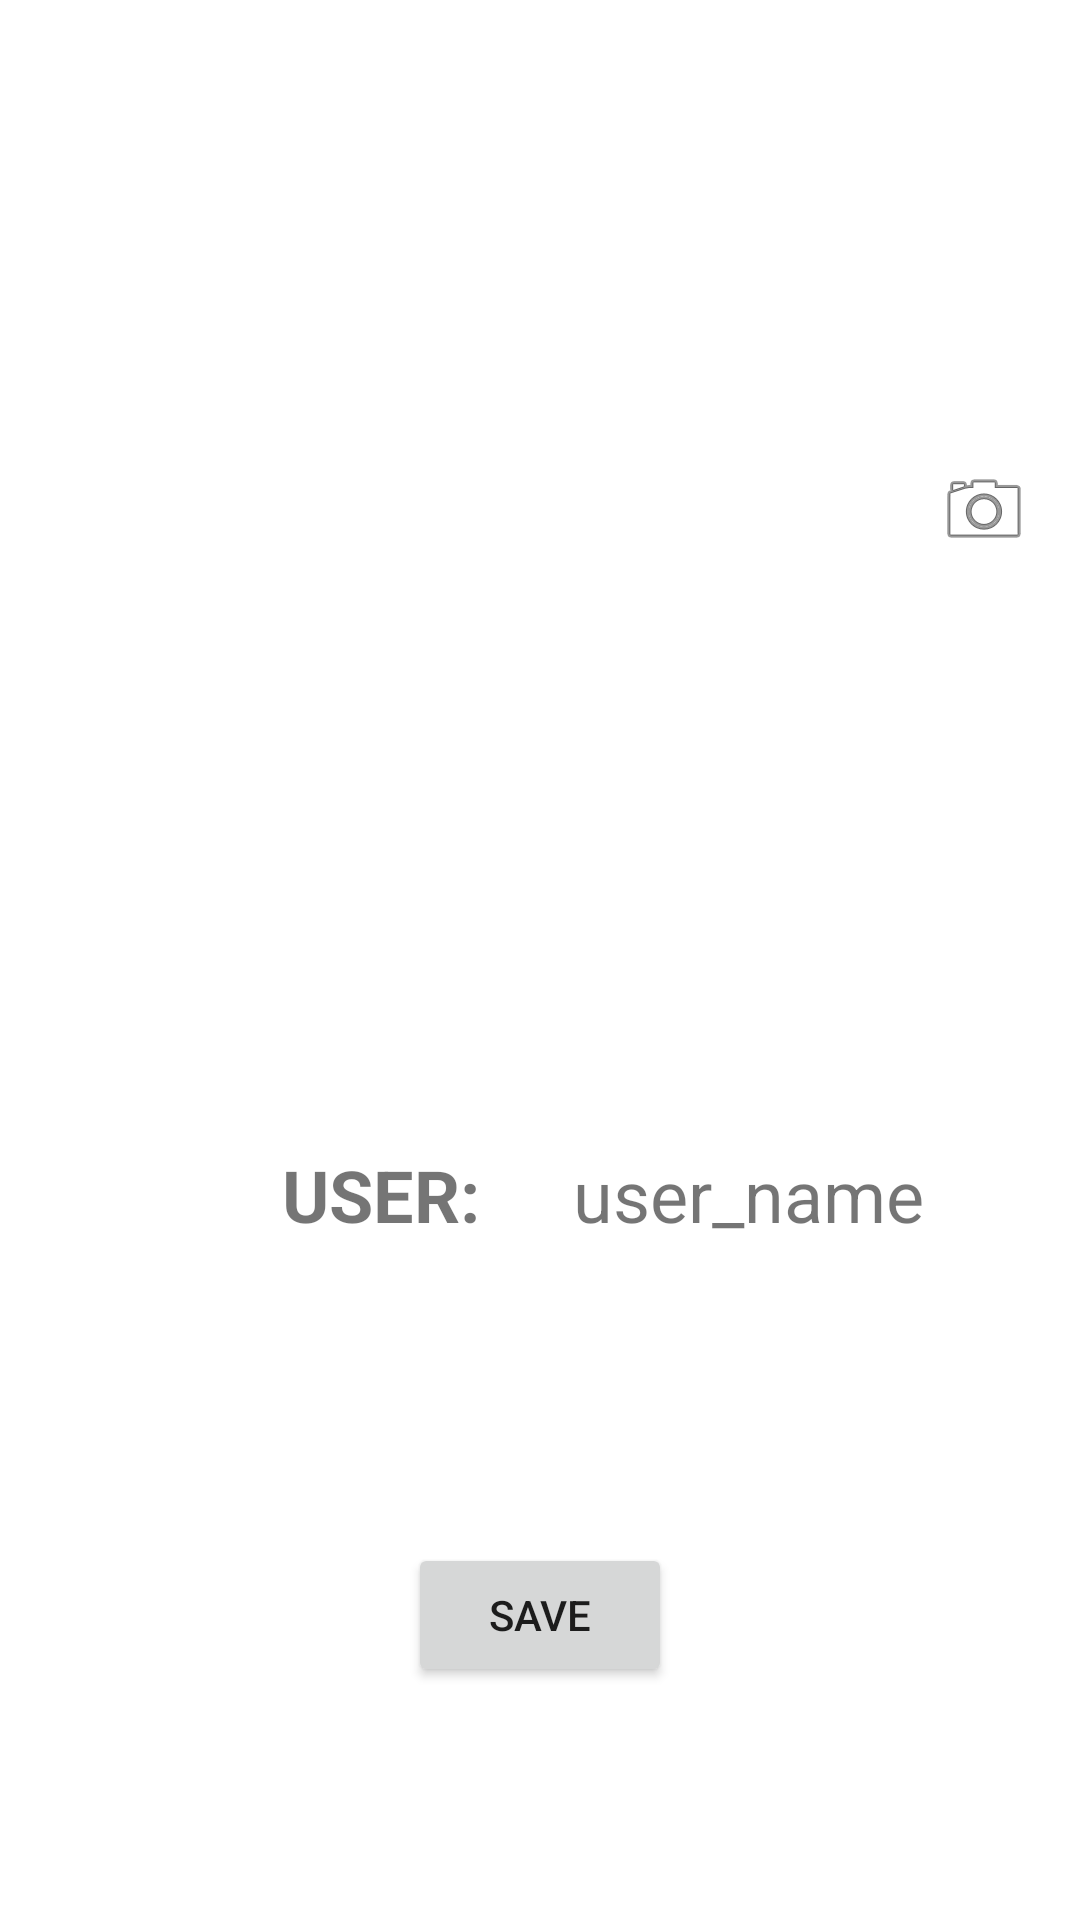

Locate icon controls on the screen. Image size 1080px x 1920px, boxes as (x1, y1, x2, y2).
camera: (947, 479, 1021, 538)
